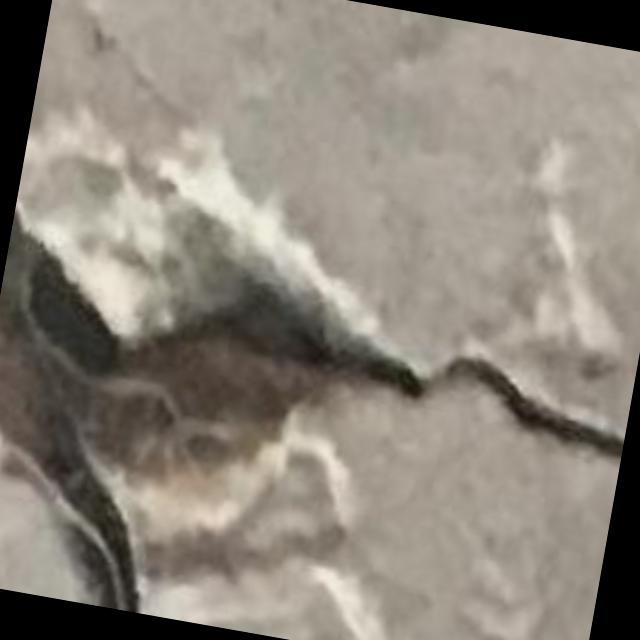crack: (0, 212, 624, 612)
